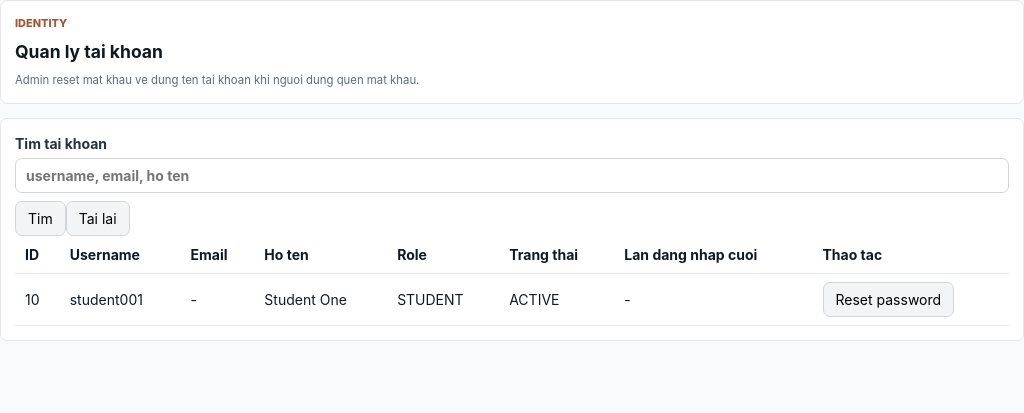
Test case: AccountAdminPage › resets password to username through backend API
Click the button "Reset password" at (888, 299), box [822,282,954,317]
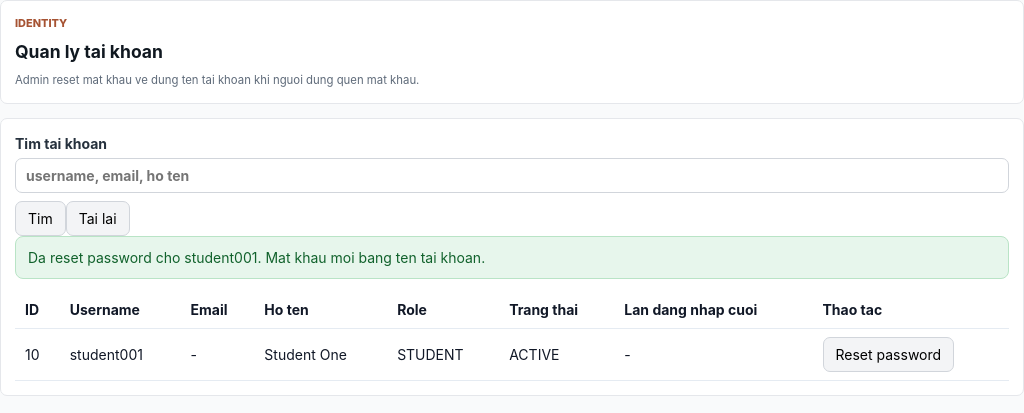
Expected: the text "Da reset password cho student001" is shown, [28,249,485,266]
